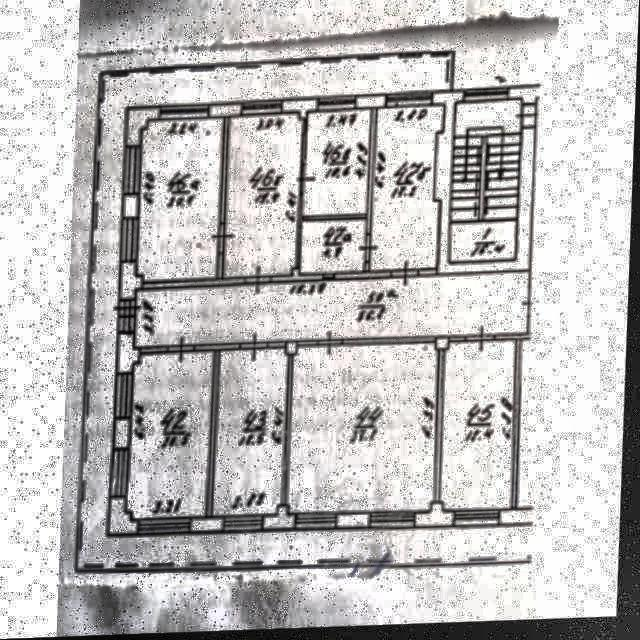room: (293, 343, 444, 522), (136, 280, 532, 348), (130, 353, 216, 523), (140, 117, 222, 285), (442, 342, 519, 512), (450, 101, 524, 268), (225, 116, 300, 280), (219, 350, 291, 518), (374, 108, 445, 275), (308, 111, 372, 220), (302, 224, 370, 274)
